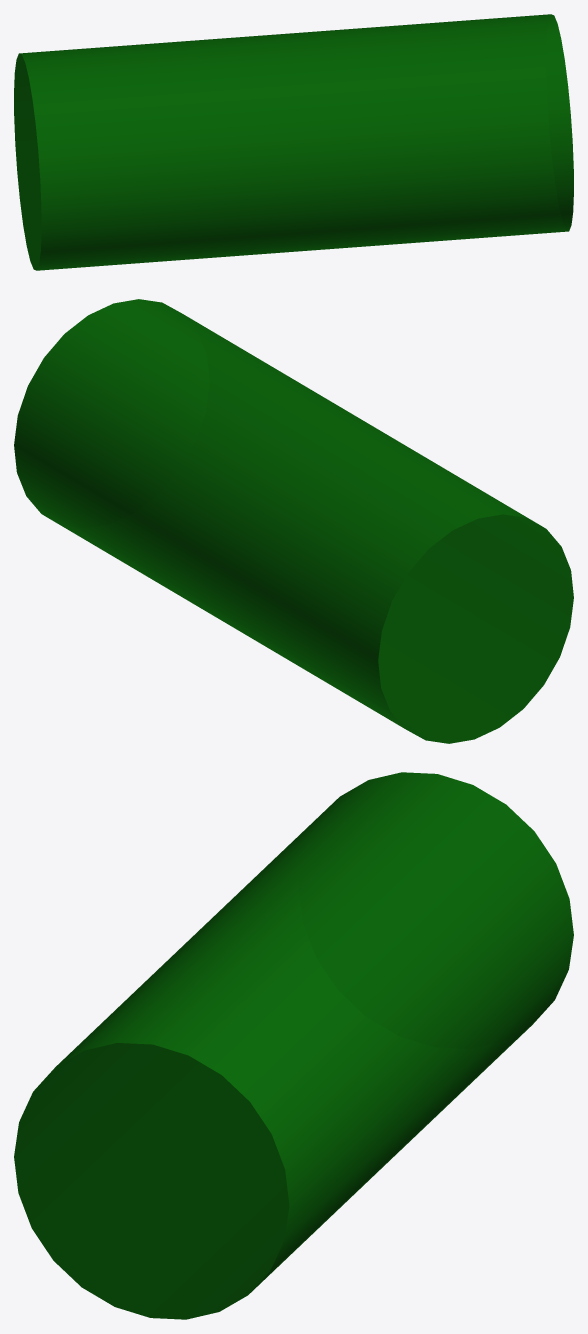
File: Event_421115418_jet_11.fbx
The picture shows the model from 3 angles, top to bottom: view 1: azimuth 30°, elevation 25°; view 2: azimuth 150°, elevation 25°; view 3: azimuth 270°, elevation 25°; orthographic projection. The views are drawn at different scales.
Parts seen in each view (by area): view 1: Model; view 2: Model; view 3: Model.
Part boxes in pixels (left/top/right/bottom): Model: left=14, top=14, right=573, bottom=270; Model: left=14, top=299, right=573, bottom=743; Model: left=14, top=772, right=573, bottom=1319.
Size of the model in its own units: 0.1059 by 0.0422 by 0.0749.
